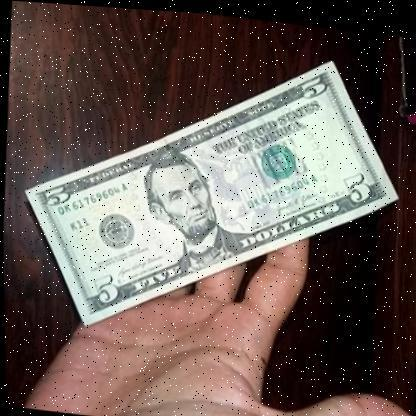five-front: (13, 21, 393, 355)
